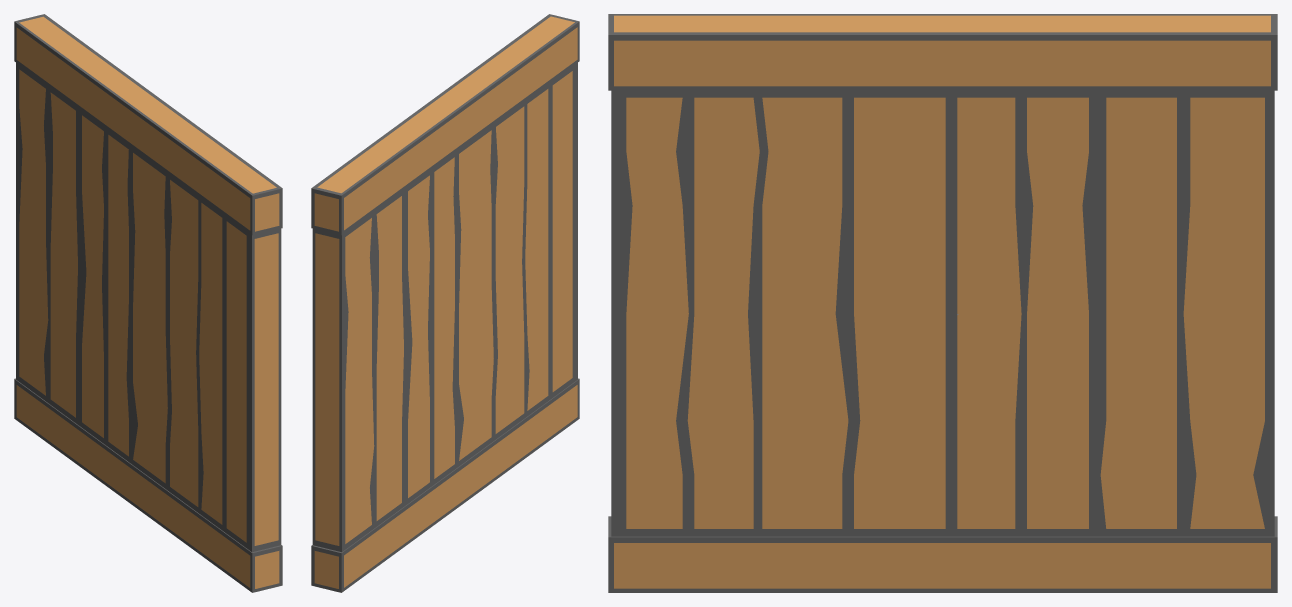
Rendered from Wall.fbx.
3 views of the same model, side by side, from view 1: azimuth 30°, elevation 25°; view 2: azimuth 150°, elevation 25°; view 3: azimuth 270°, elevation 25° (orthographic). The views are drawn at different scales.
Parts seen in each view (by area): view 1: Cube; view 2: Cube; view 3: Cube.
Part boxes in pixels (x1,y1,x2,y2): Cube: (14, 14, 282, 592); Cube: (311, 14, 579, 592); Cube: (608, 14, 1277, 592).
Size of the model in its own units: 20.83 by 260 by 283.
